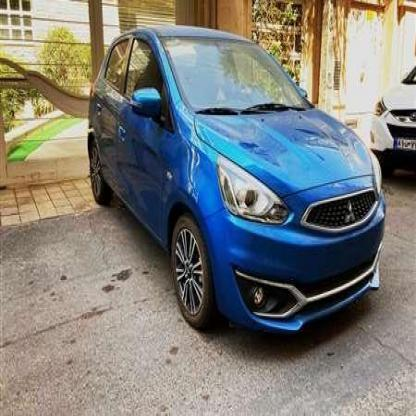Car: (82, 34, 388, 368), (369, 60, 416, 191)
